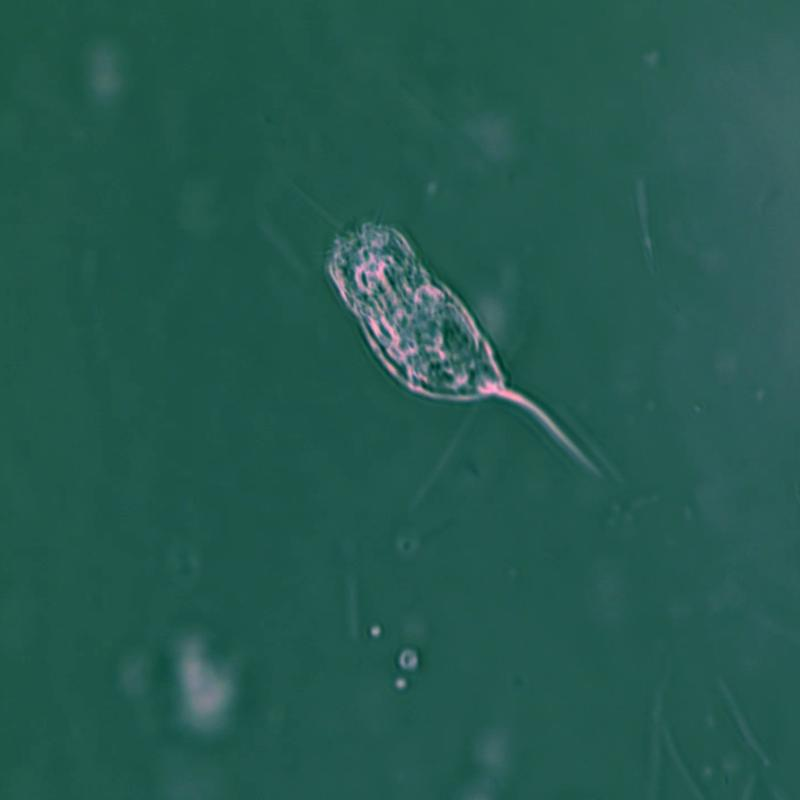depth:0: (301, 191, 638, 518)
